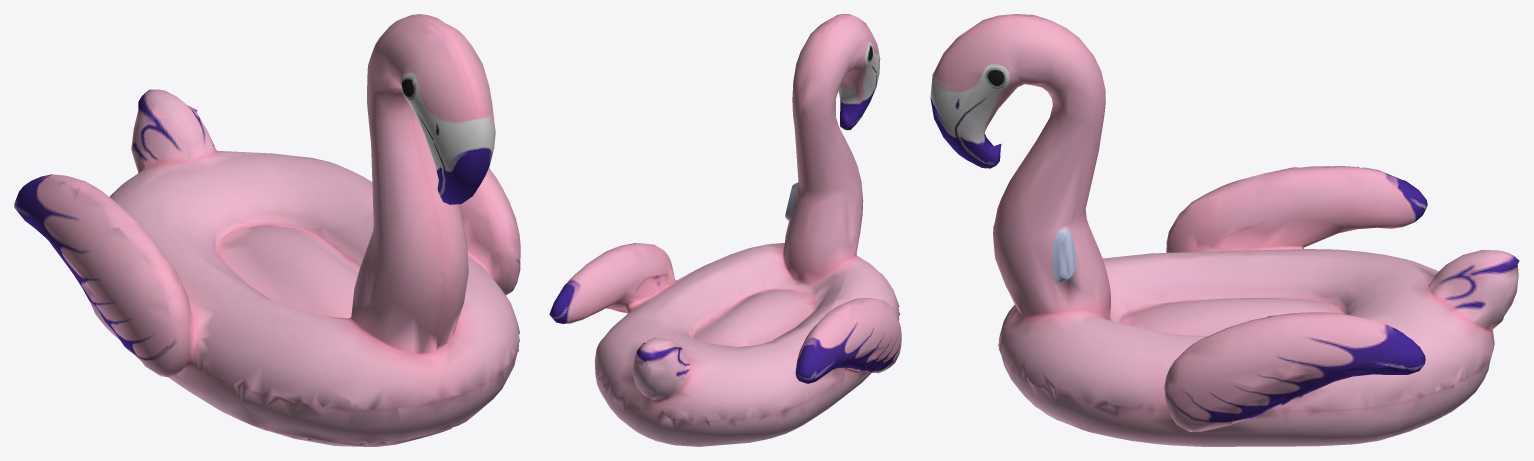
File: flamingo-3d.glb
The picture shows the model from 3 angles, left to right: view 1: azimuth 30°, elevation 25°; view 2: azimuth 150°, elevation 25°; view 3: azimuth 270°, elevation 25°; orthographic projection. The views are drawn at different scales.
Parts seen in each view (by area): view 1: input; view 2: input; view 3: input.
Boxes of the visible parts, <box> form: input: <box>14,14,520,446</box>; input: <box>549,14,901,446</box>; input: <box>930,14,1519,446</box>.
Bounding box in the file's own units: 0.9051 × 0.95 × 1.3.
1 material, 1 textured.
